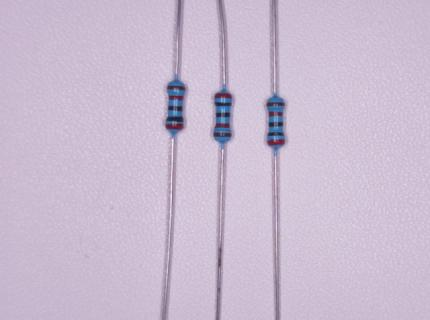Black band: (166, 116, 183, 122), (168, 106, 183, 111), (269, 122, 283, 127), (215, 102, 232, 106), (268, 132, 284, 136), (216, 113, 230, 117)
Brown band: (167, 86, 186, 91), (213, 133, 232, 137), (267, 102, 284, 106)
Red band: (267, 139, 285, 145), (166, 123, 183, 129), (214, 93, 232, 98), (215, 123, 230, 128), (169, 96, 183, 101), (269, 112, 283, 116)
